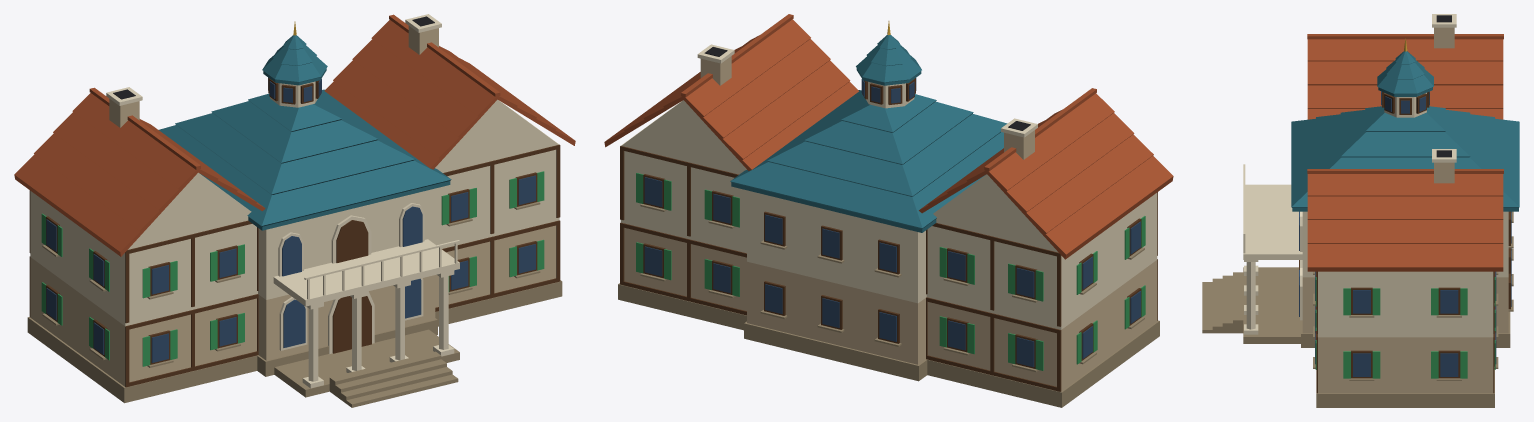
Rendered from Mansion.fbx.
3 renders of one model, left to right at view 1: azimuth 30°, elevation 25°; view 2: azimuth 150°, elevation 25°; view 3: azimuth 270°, elevation 25°, orthographic. The views are drawn at different scales.
Parts seen in each view (by area): view 1: Mansion; view 2: Mansion; view 3: Mansion.
Part boxes in pixels (left/top/right/bottom): Mansion: left=14, top=14, right=575, bottom=407; Mansion: left=604, top=14, right=1173, bottom=407; Mansion: left=1202, top=14, right=1519, bottom=407.
Bounding box in the file's own units: 18.88 × 11.67 × 12.33.
